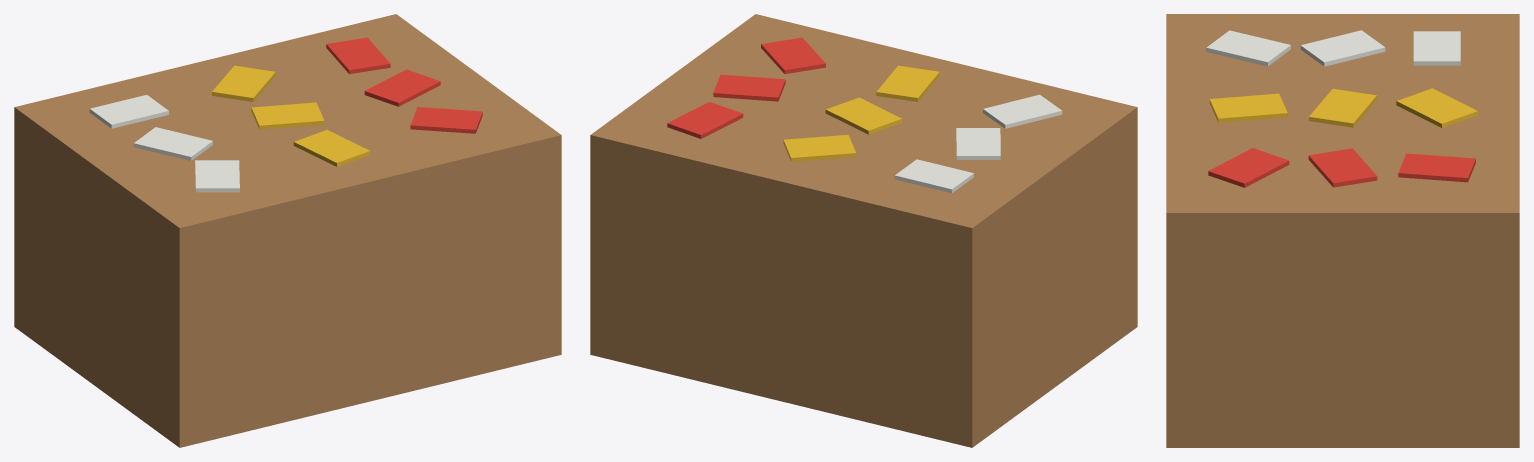
The model's file is super_label_box.glb.
3 views of the same model, side by side, from view 1: azimuth 30°, elevation 25°; view 2: azimuth 150°, elevation 25°; view 3: azimuth 270°, elevation 25° (orthographic). The views are drawn at different scales.
Parts seen in each view (by area): view 1: box_label_box_card, labels; view 2: box_label_box_card, labels; view 3: box_label_box_card, labels.
Boxes of the visible parts, <box> form: box_label_box_card: <box>14,14,561,447</box>; labels: <box>89,37,482,192</box>; box_label_box_card: <box>590,14,1137,447</box>; labels: <box>667,37,1062,193</box>; box_label_box_card: <box>1166,14,1519,447</box>; labels: <box>1206,30,1477,187</box>.
Size of the model in its own units: 0.4 by 0.227 by 0.3.
